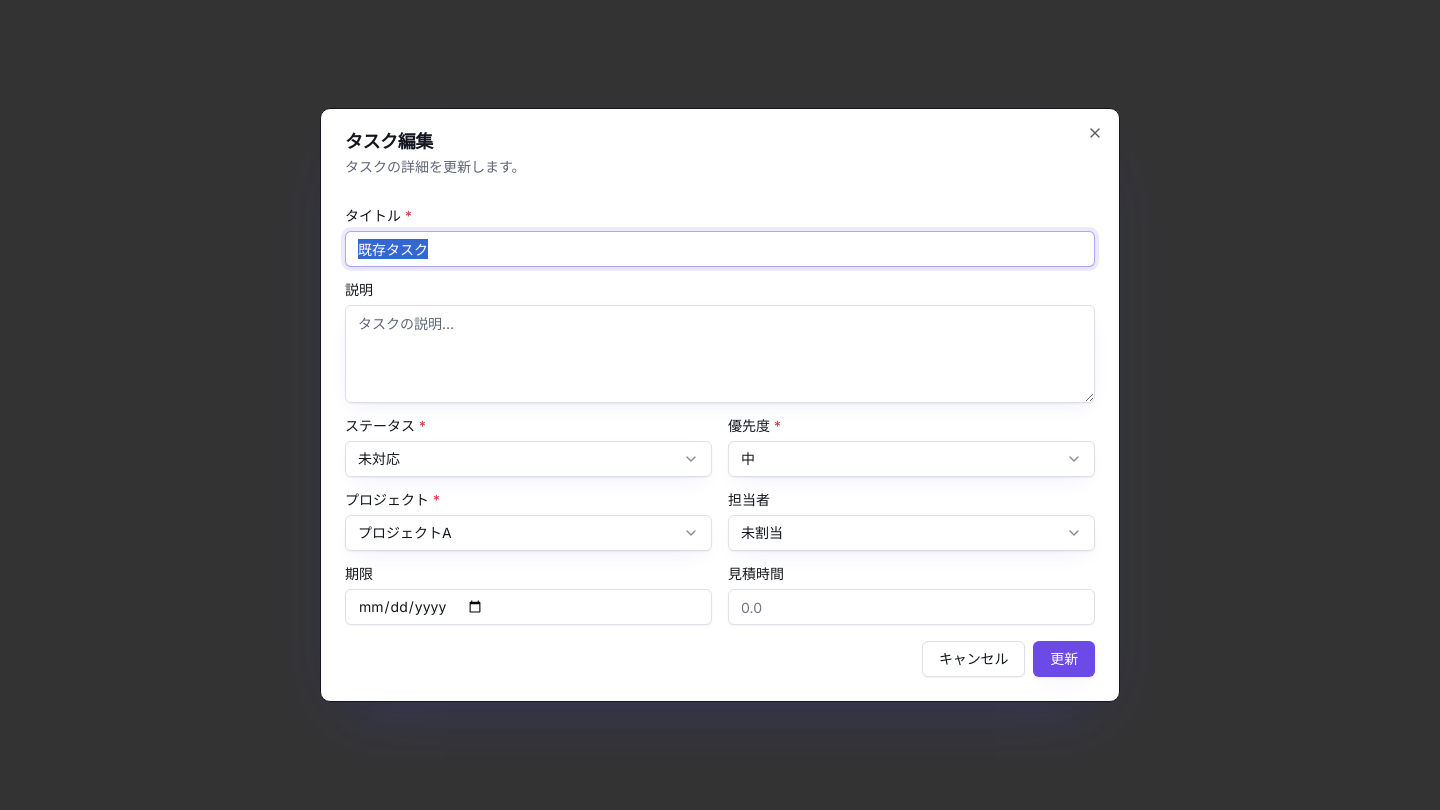
Scenario: TaskDialog › 送信後の下書きと成功通知 › 更新の送信後に書き足すと、閉じずに開き直しを促す
Click the button "更新".
click(1064, 659)  # box [1033,641,1095,677]
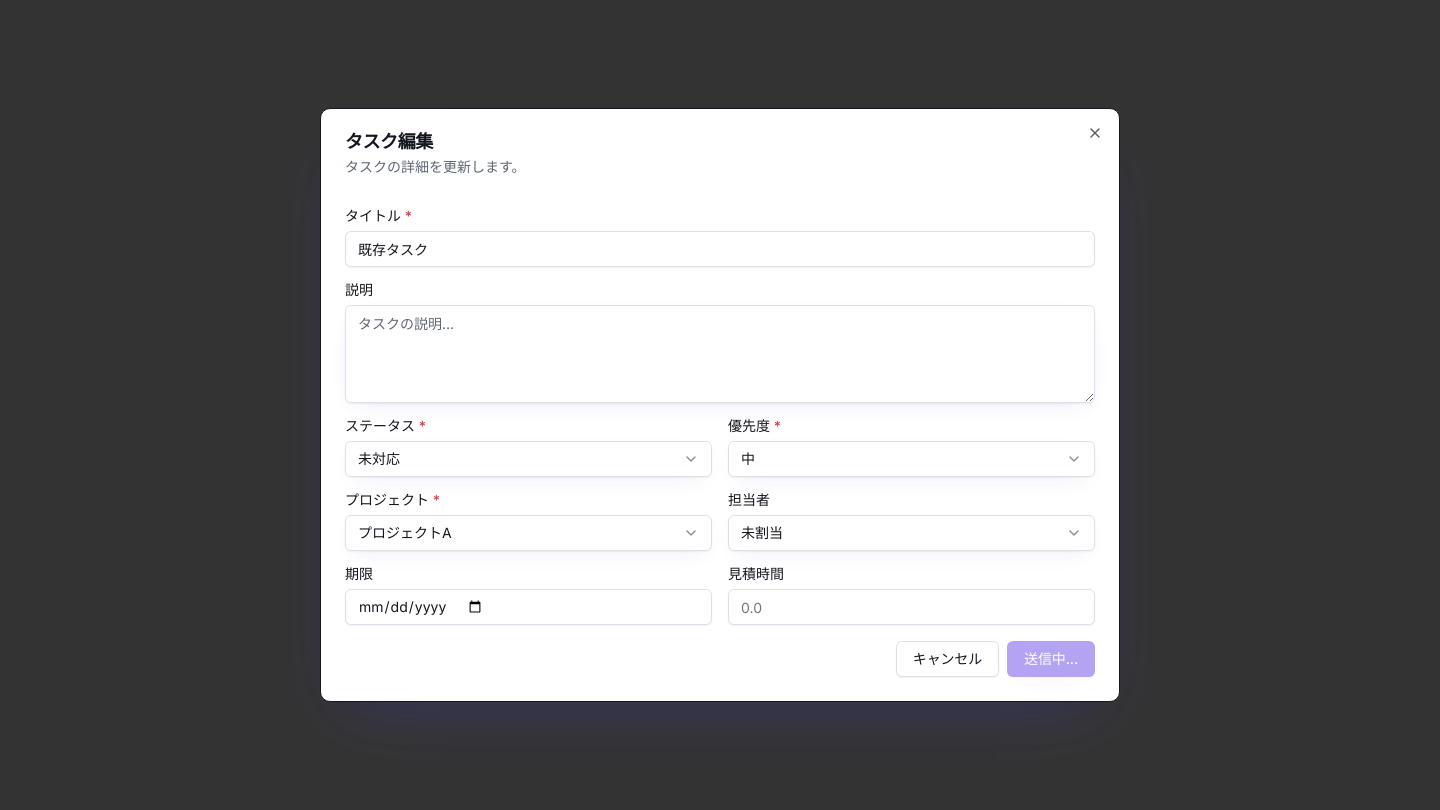
Type "追記" into the field with placeholder "タスクのタイトルを入力".
click(720, 249); type("追記")  # box [345,231,1095,267]
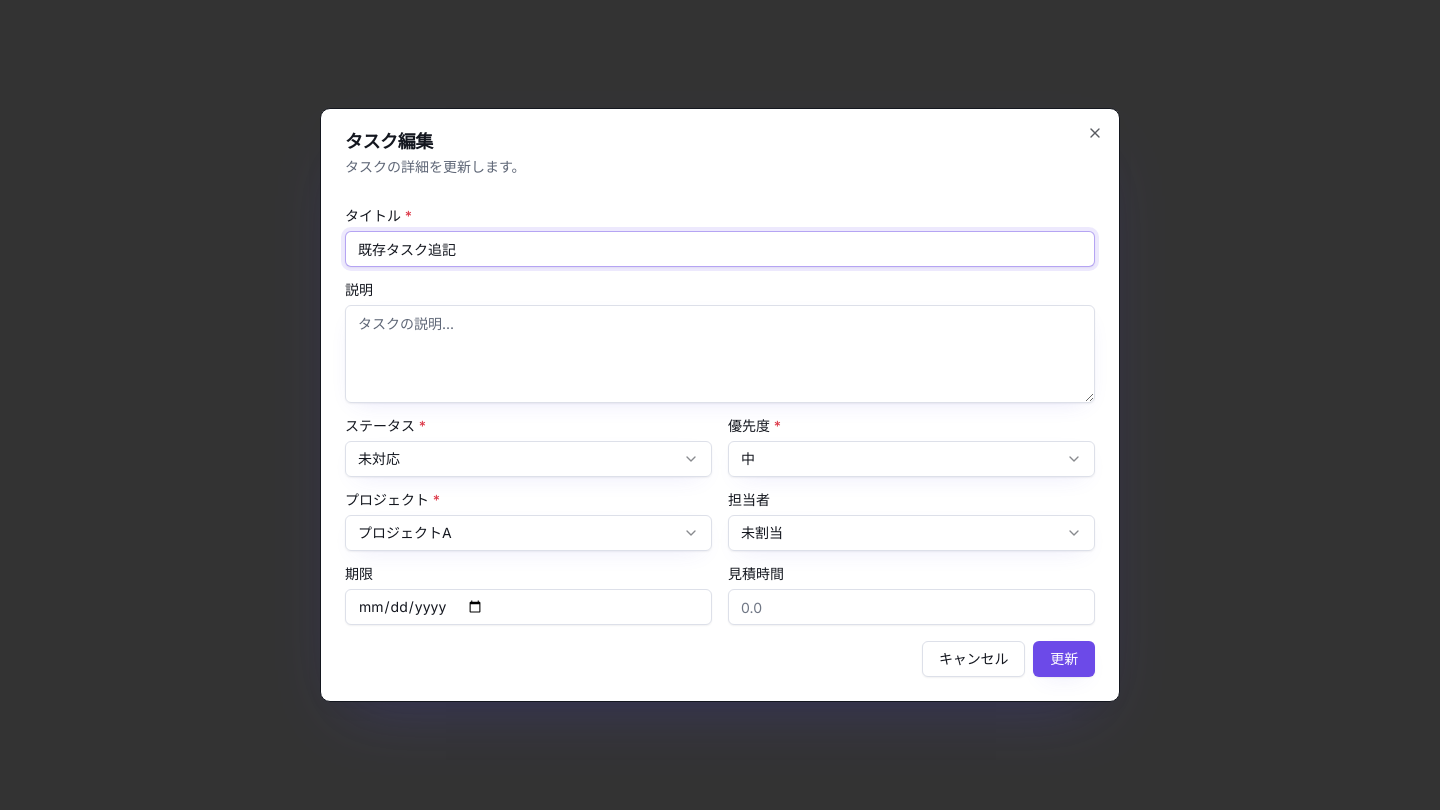
Check: the field with placeholder "タスクのタイトルを入力" holds "既存タスク追記", box [345,231,1095,267]
